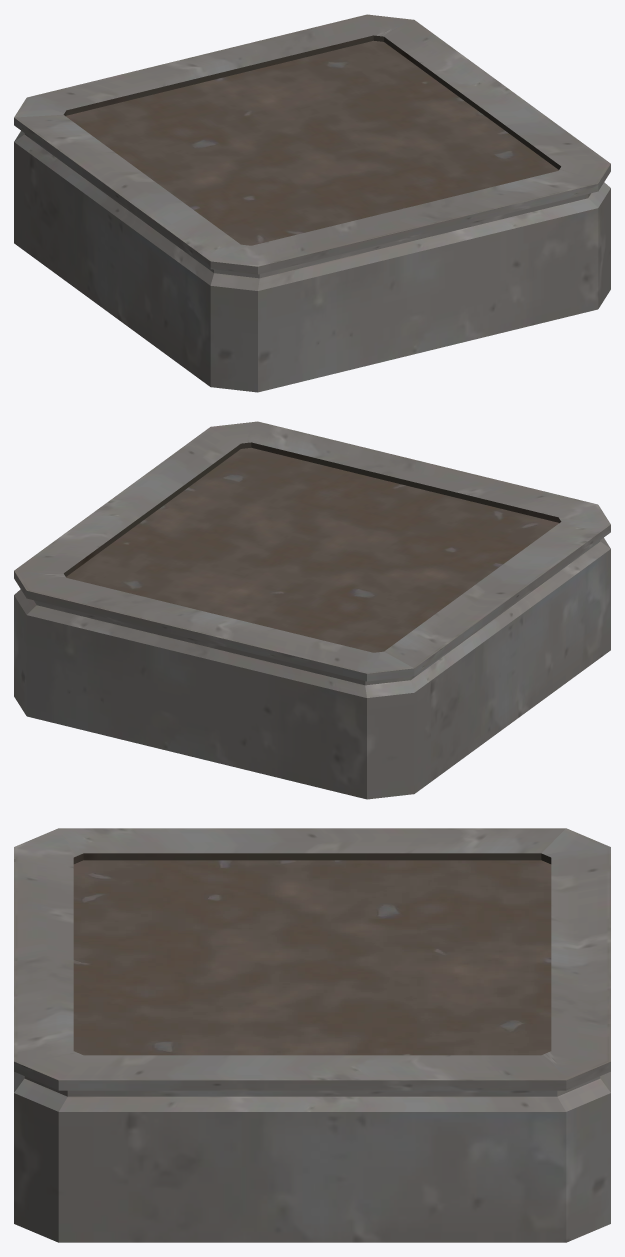
Rendered from quaternius_prop_plantersingle.glb.
3 views of the same model, one above another, from view 1: azimuth 30°, elevation 25°; view 2: azimuth 150°, elevation 25°; view 3: azimuth 270°, elevation 25° (orthographic). The views are drawn at different scales.
Visible parts, largest first — view 1: Prop_Planter_Single; view 2: Prop_Planter_Single; view 3: Prop_Planter_Single.
Boxes of the visible parts, x1=… form: Prop_Planter_Single: x1=14, y1=14, x2=610, y2=392; Prop_Planter_Single: x1=14, y1=421, x2=610, y2=799; Prop_Planter_Single: x1=14, y1=828, x2=610, y2=1242.
Bounding box in the file's own units: 2 × 0.6 × 2.
2 materials, 2 textured.
